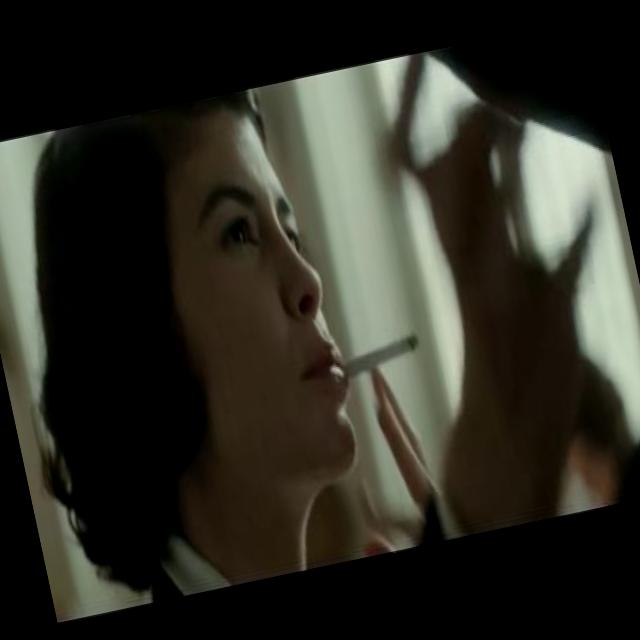smoke: (337, 332, 422, 376)
